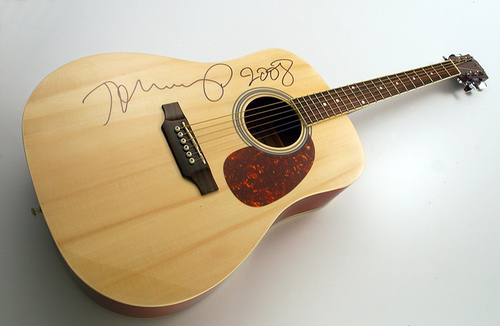guitar: (24, 49, 489, 318)
